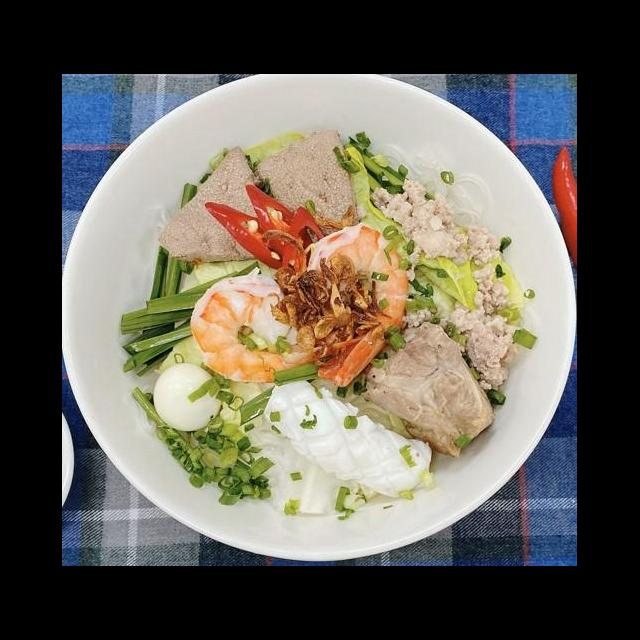gan: (150, 138, 288, 268), (248, 120, 360, 255)
muc: (260, 371, 440, 502)
thit bam: (368, 170, 528, 393)
thit heo: (352, 313, 504, 464)
tom: (288, 218, 416, 392), (183, 267, 350, 390)
trung: (150, 359, 230, 436)
